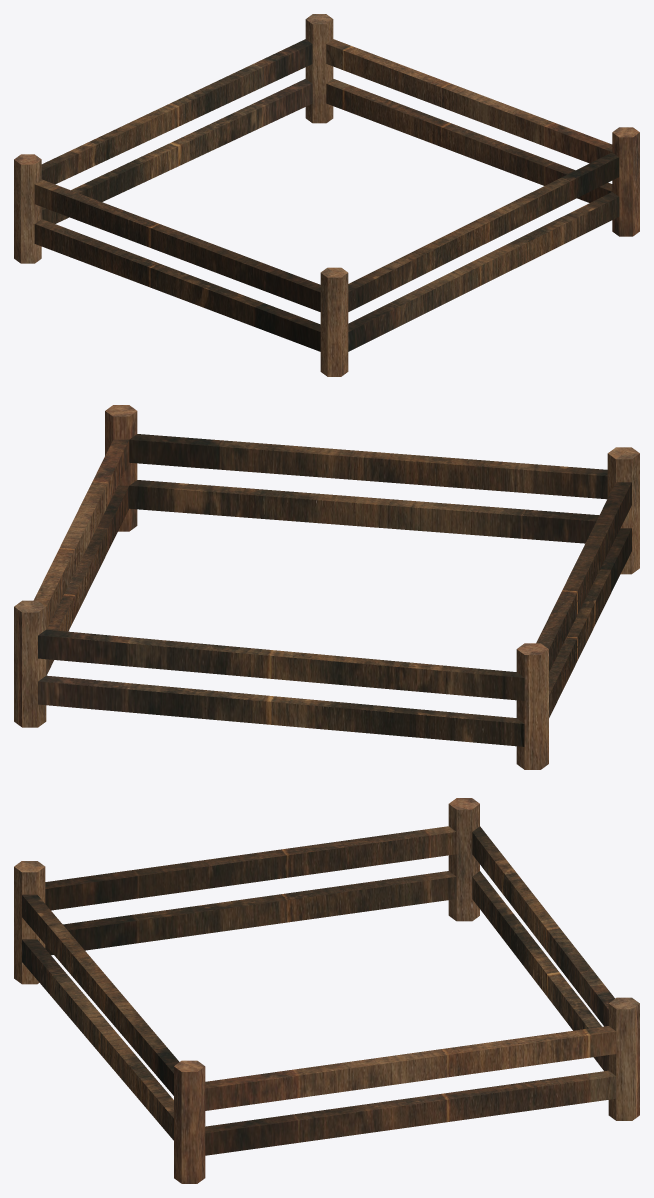
The model's file is StatueWtv.fbx.
3 views of the same model, one above another, from view 1: azimuth 30°, elevation 25°; view 2: azimuth 150°, elevation 25°; view 3: azimuth 270°, elevation 25° (orthographic). The views are drawn at different scales.
Parts seen in each view (by area): view 1: Cylinder.001; view 2: Cylinder.001; view 3: Cylinder.001.
Part boxes in pixels (box(x1,y1,x2,y2)): Cylinder.001: box(14, 14, 639, 376); Cylinder.001: box(14, 405, 639, 769); Cylinder.001: box(14, 798, 639, 1183).
Bounding box in the file's own units: 734 × 140 × 709.
